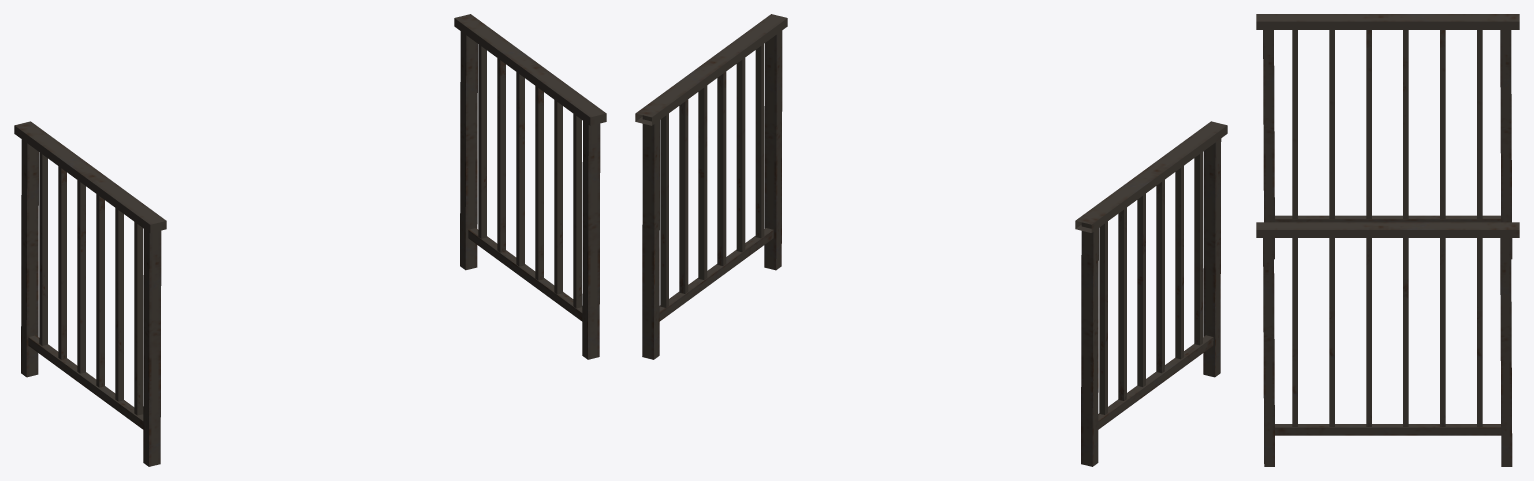
The model's file is stairs_rails_metal_straight_1.glb.
3 views of the same model, side by side, from view 1: azimuth 30°, elevation 25°; view 2: azimuth 150°, elevation 25°; view 3: azimuth 270°, elevation 25° (orthographic). The views are drawn at different scales.
Parts seen in each view (by area): view 1: Stairs_Rails_Metal_Straight_1; view 2: Stairs_Rails_Metal_Straight_1; view 3: Stairs_Rails_Metal_Straight_1.
Boxes of the visible parts, <box> form: Stairs_Rails_Metal_Straight_1: <box>14,14,606,466</box>; Stairs_Rails_Metal_Straight_1: <box>635,14,1227,466</box>; Stairs_Rails_Metal_Straight_1: <box>1256,14,1519,466</box>.
Size of the model in its own units: 1.94 by 0.9981 by 1.
1 material, 1 textured.
